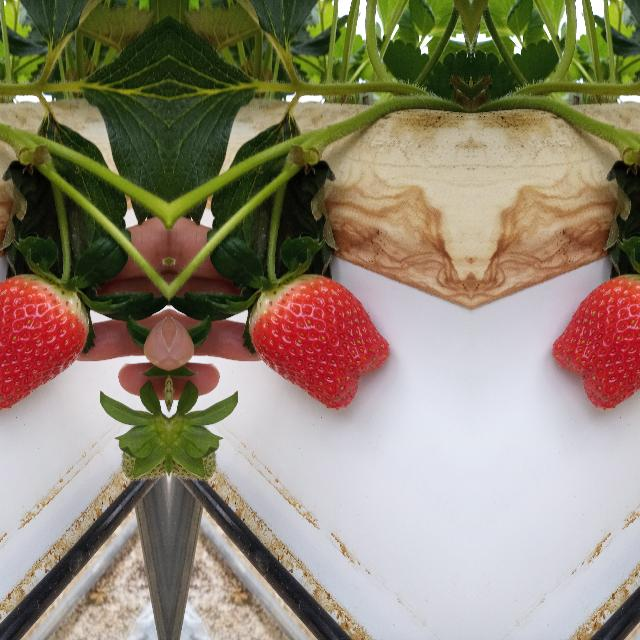Health_100: (248, 274, 390, 411), (551, 273, 640, 410), (0, 273, 88, 410)
